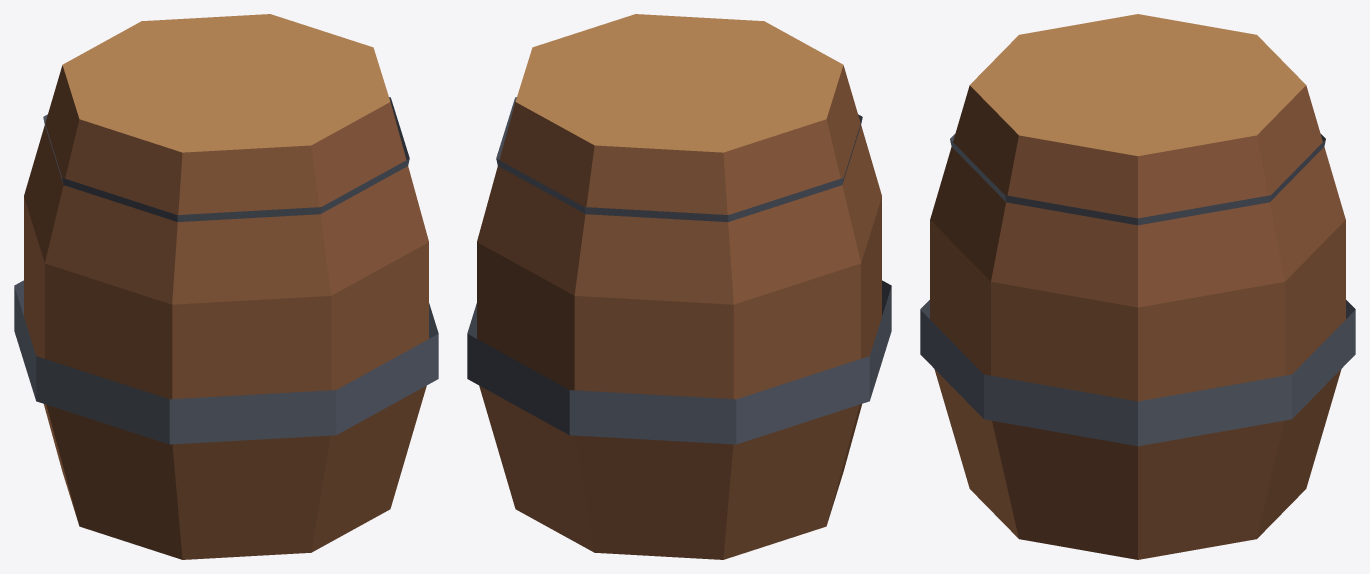
Rendered from CA_Barril.obj.
3 views of the same model, side by side, from view 1: azimuth 30°, elevation 25°; view 2: azimuth 150°, elevation 25°; view 3: azimuth 270°, elevation 25° (orthographic).
Visible parts, largest first — view 1: CA_Barril; view 2: CA_Barril; view 3: CA_Barril.
Part boxes in pixels (x1=…): CA_Barril: x1=14, y1=14, x2=438, y2=559; CA_Barril: x1=467, y1=14, x2=891, y2=559; CA_Barril: x1=920, y1=14, x2=1355, y2=559.
Size of the model in its own units: 0.88 by 0.9 by 0.88.
